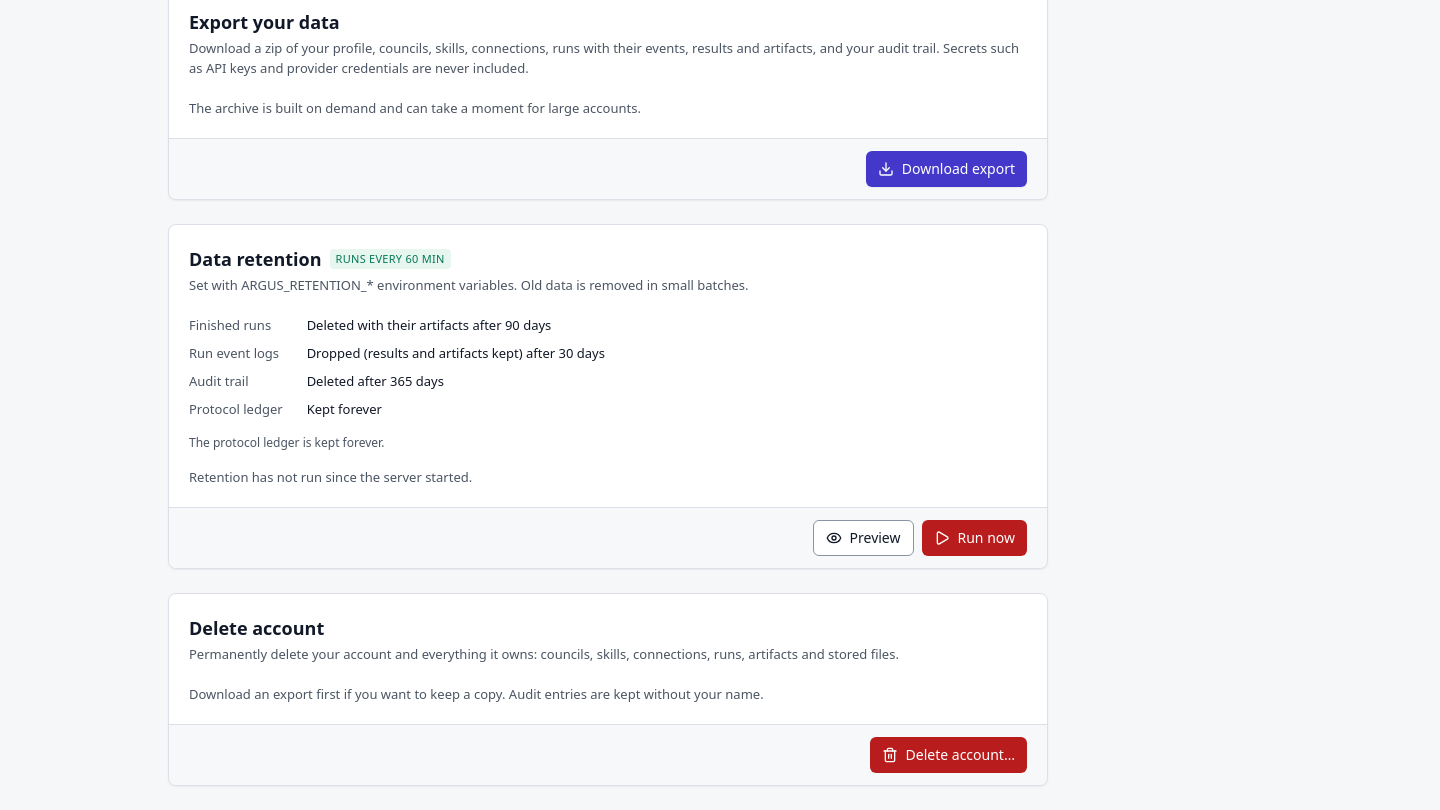
Test: Settings → Data & privacy › shows the last-admin conflict from the server
The width and height of the screenshot is (1440, 810).
(page scrolled)
Click the button "Delete account…": (948, 755) [870,737,1027,773]
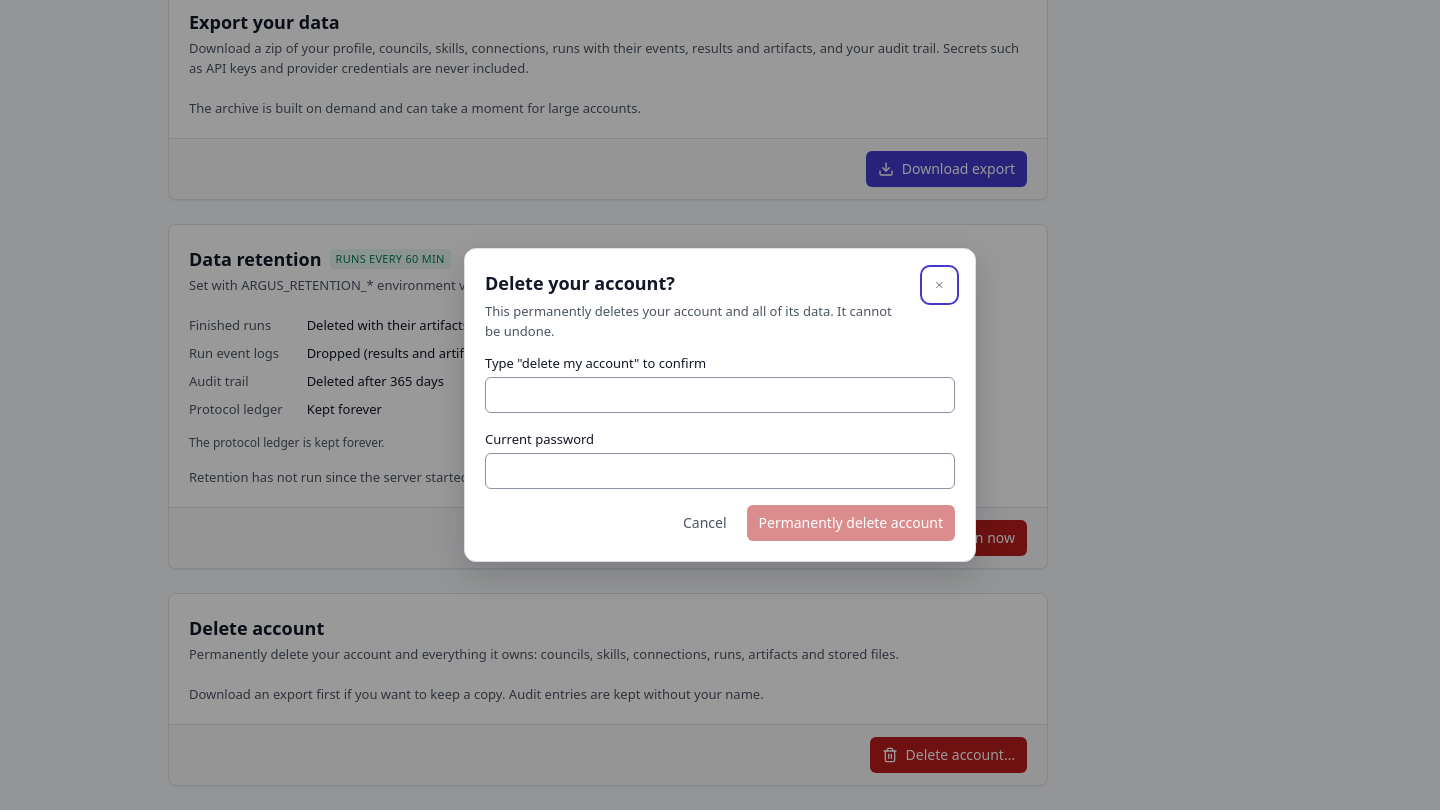
In the field labelled "Type \"delete my account\" to confirm": (720, 395) [485,377,955,413], type "delete my account"
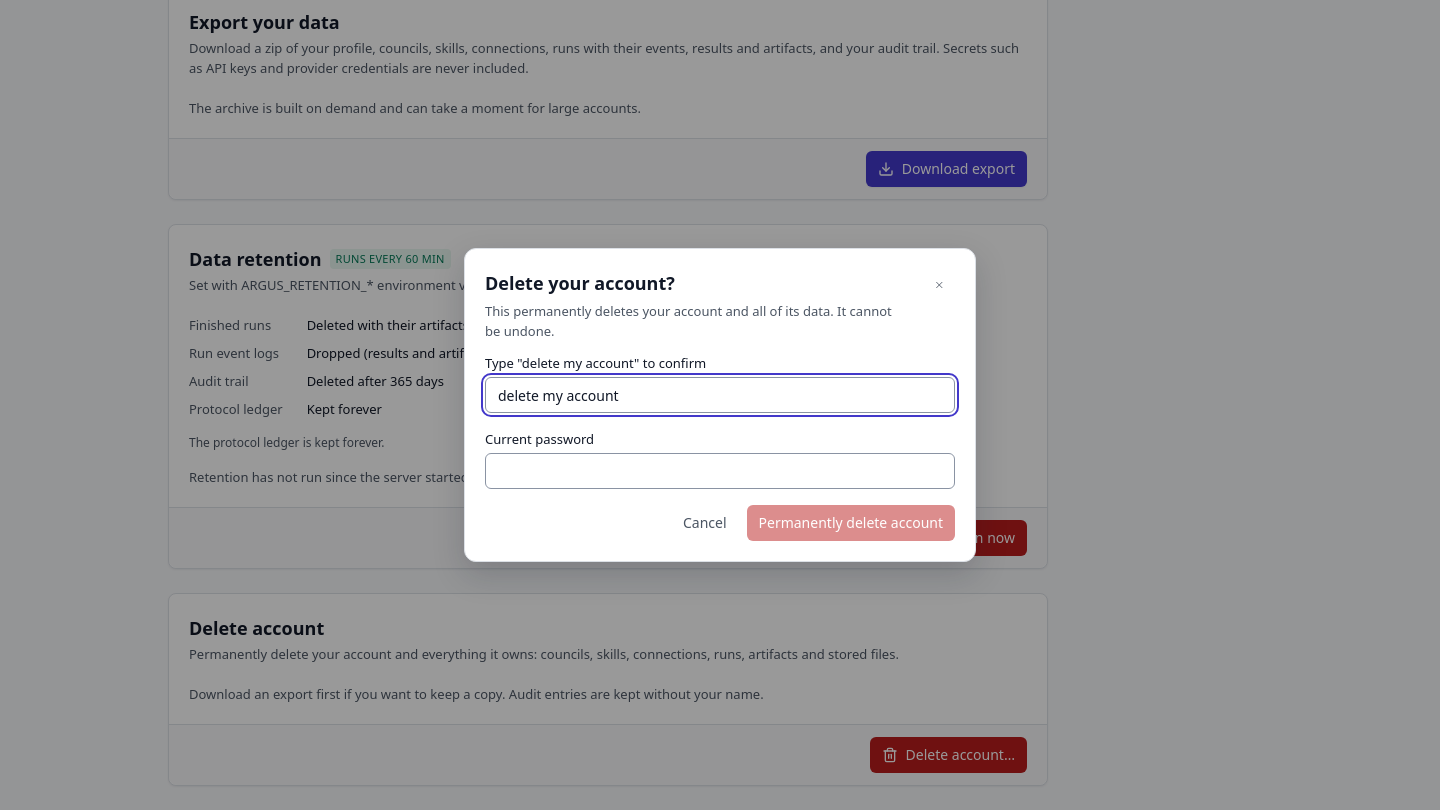
In the password field labelled "Current password": (720, 471) [485,453,955,489], type "pw"
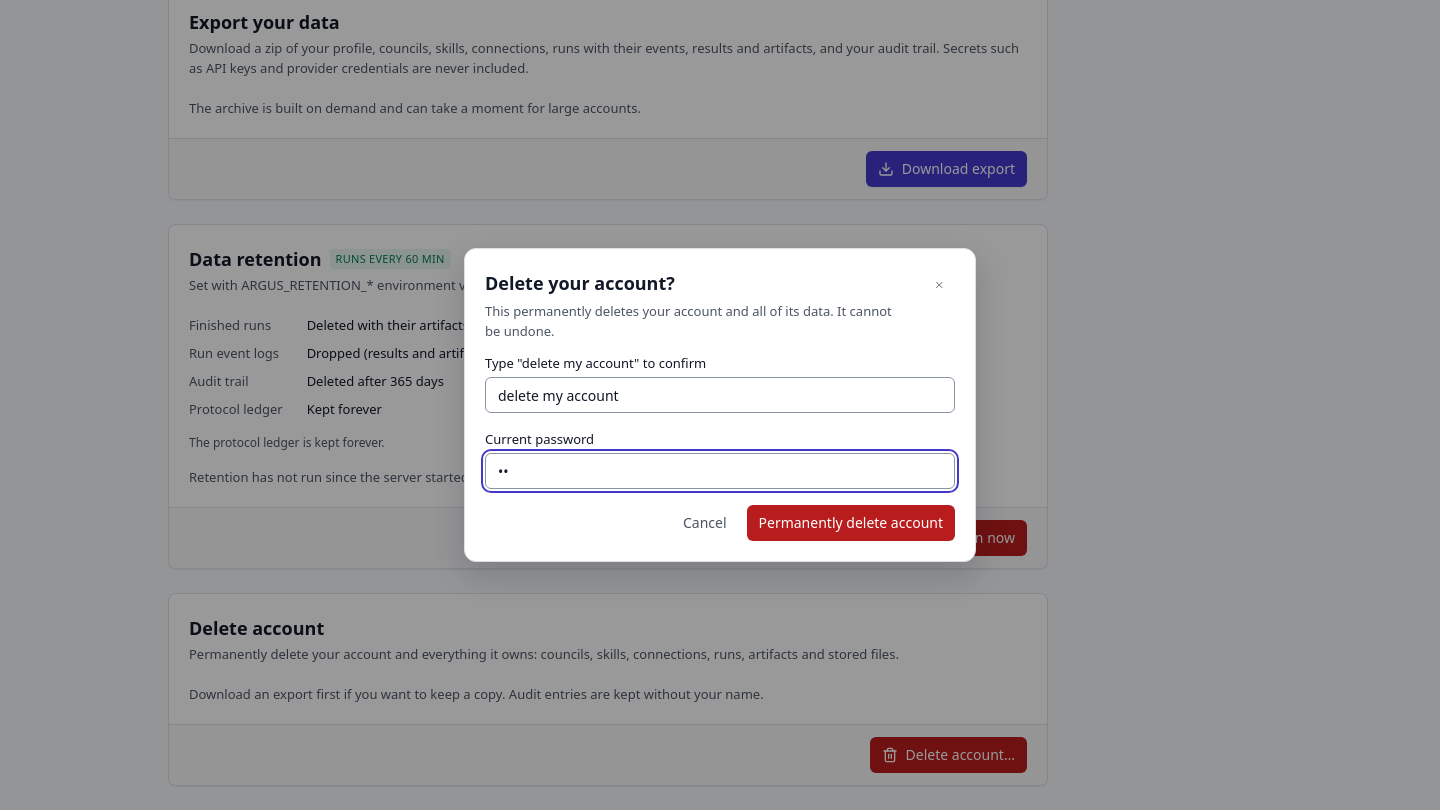
Click the button "Permanently delete account": (851, 523) [746,505,955,541]
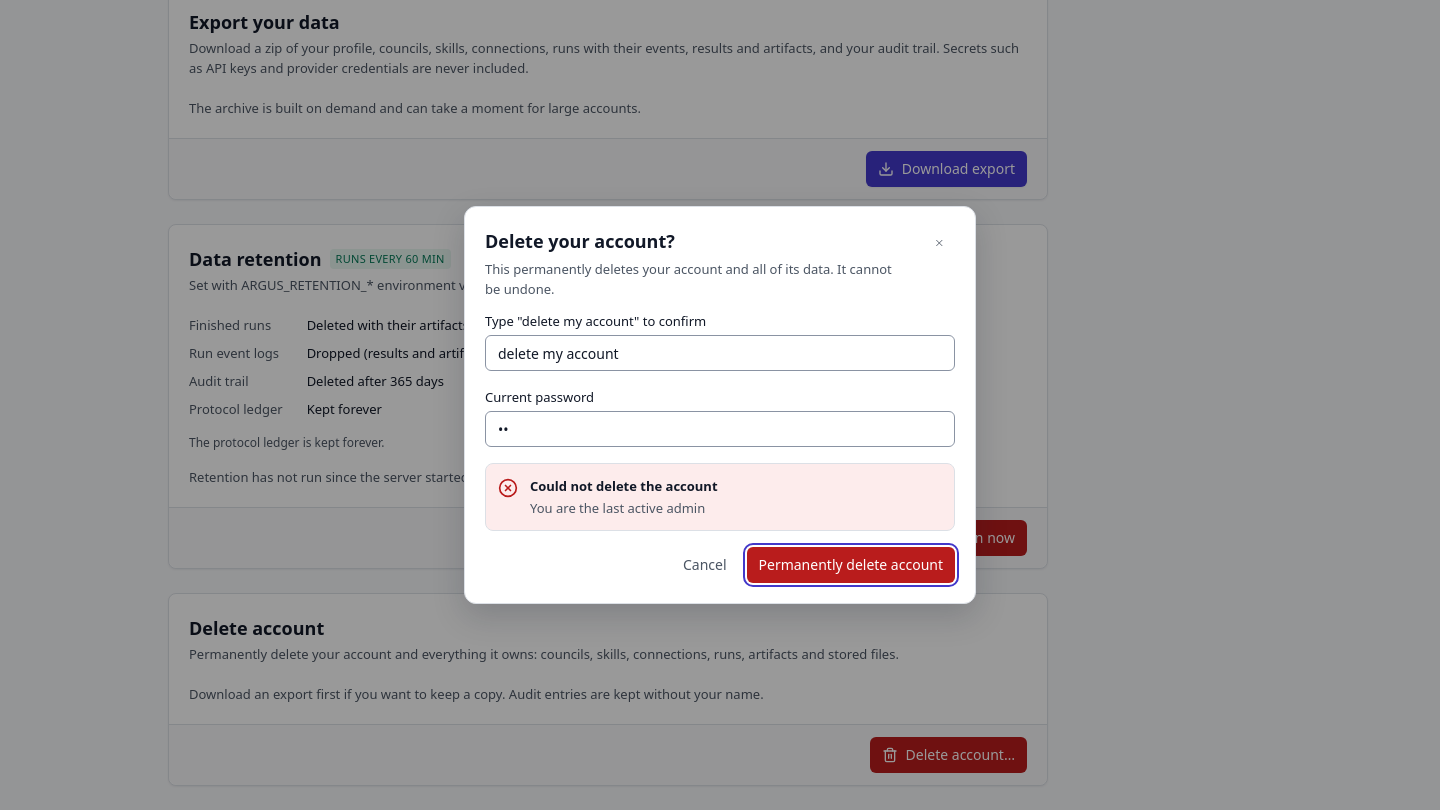
Now the text "You are the last active admin" is shown, box [530,499,705,517]
